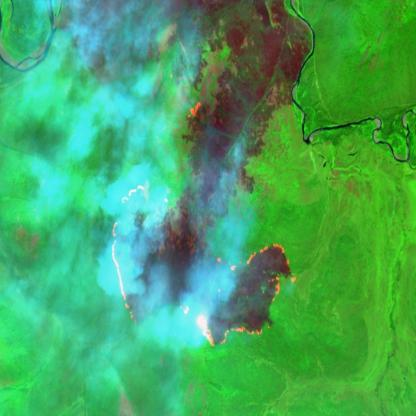fire: (194, 241, 298, 352), (108, 180, 151, 334), (185, 96, 205, 125)
